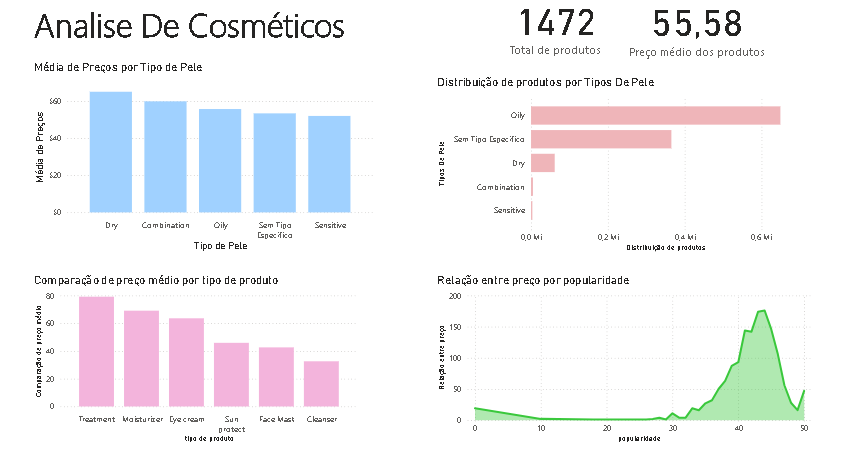

The page's visual inventory and layout, read from the dashboard file:
{"tool":"powerbi","page":{"name":"Analise De Cosméticos","canvas":[1280,720],"ordinal":0},"visuals":[{"type":"barChart","fields":{"Y":["Sum(cosmetics_BI.product_id)"],"Category":["cosmetics_BI.Skin_Types"]},"box":[640,150,556.7,263.3],"z":0},{"type":"clusteredColumnChart","fields":{"Category":["cosmetics_BI.Skin_Types"],"Y":["Avg(cosmetics_BI.Price)"]},"box":[50,128.3,506.7,285],"z":1000},{"type":"card","fields":{"Values":["cosmetics_BI.TotalProdutos"]},"box":[716.7,16.7,201.7,120],"z":2000},{"type":"card","fields":{"Values":["cosmetics_BI.PrecoMedio"]},"box":[918.3,18.3,210,118.3],"z":3000},{"type":"actionButton","box":[0,0,100,40],"z":4000},{"type":"columnChart","fields":{"Category":["cosmetics_BI.Label"],"Y":["cosmetics_BI.PrecoMedio"]},"box":[50,440,483.3,253.3],"z":5000},{"type":"areaChart","fields":{"Category":["cosmetics_BI.Rank"],"Y":["CountNonNull(cosmetics_BI.Price)"]},"box":[640,440,556.7,253.3],"z":6000},{"type":"textbox","box":[50,38.3,540,76.7],"z":7000}]}

Visuals, with their boxes on the page's 1280x720 design canvas (x1, y1, x2, y2). These are canvas units, not pixel positions in the 859x456 screenshot, which may show the page scaled, cropped or inside an application window:
barChart - Sum(cosmetics_BI.product_id) x cosmetics_BI.Skin_Types: locate(640, 150, 1197, 413)
clusteredColumnChart - cosmetics_BI.Skin_Types x Avg(cosmetics_BI.Price): locate(50, 128, 557, 413)
card - cosmetics_BI.TotalProdutos: locate(717, 17, 918, 137)
card - cosmetics_BI.PrecoMedio: locate(918, 18, 1128, 137)
actionButton: locate(0, 0, 100, 40)
columnChart - cosmetics_BI.Label x cosmetics_BI.PrecoMedio: locate(50, 440, 533, 693)
areaChart - cosmetics_BI.Rank x CountNonNull(cosmetics_BI.Price): locate(640, 440, 1197, 693)
textbox: locate(50, 38, 590, 115)
